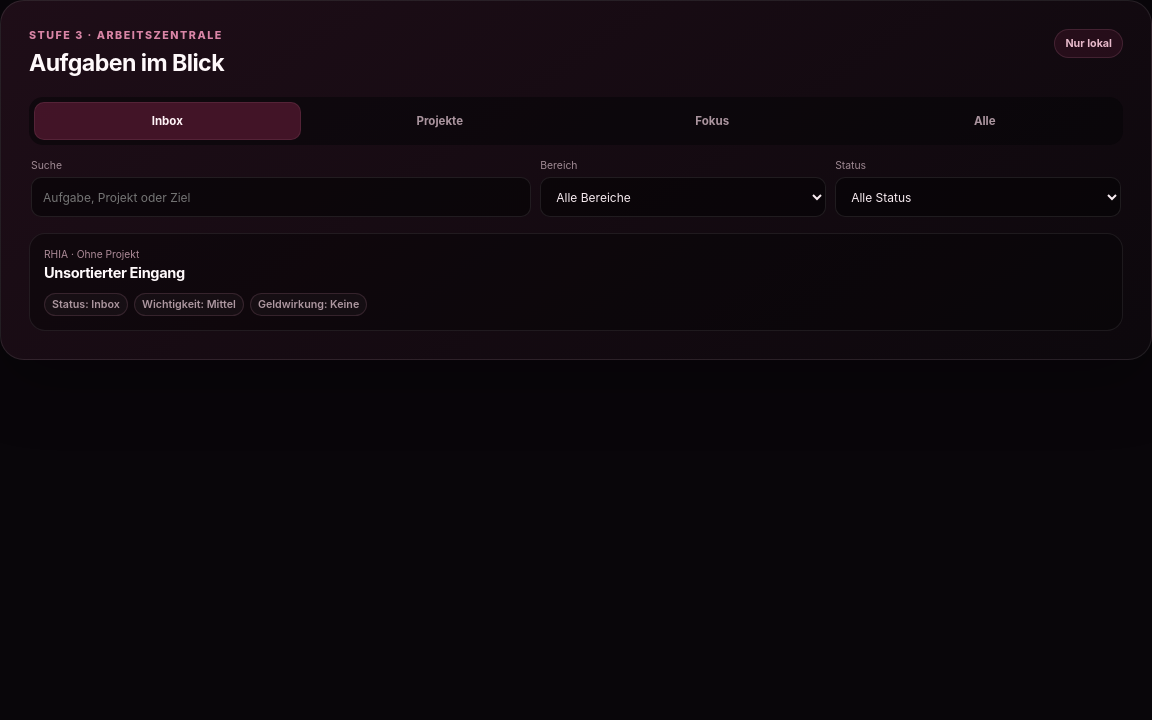
Test: WorkHubPanel › switches between inbox, focus and project views
Check: the heading "Unsortierter Eingang" is shown, box x1=44 y1=264 x2=185 y2=282
Check: the text "Priorität erklären" is not shown
Click the tab "Fokus".
click(712, 121)  # box x1=579 y1=102 x2=846 y2=140
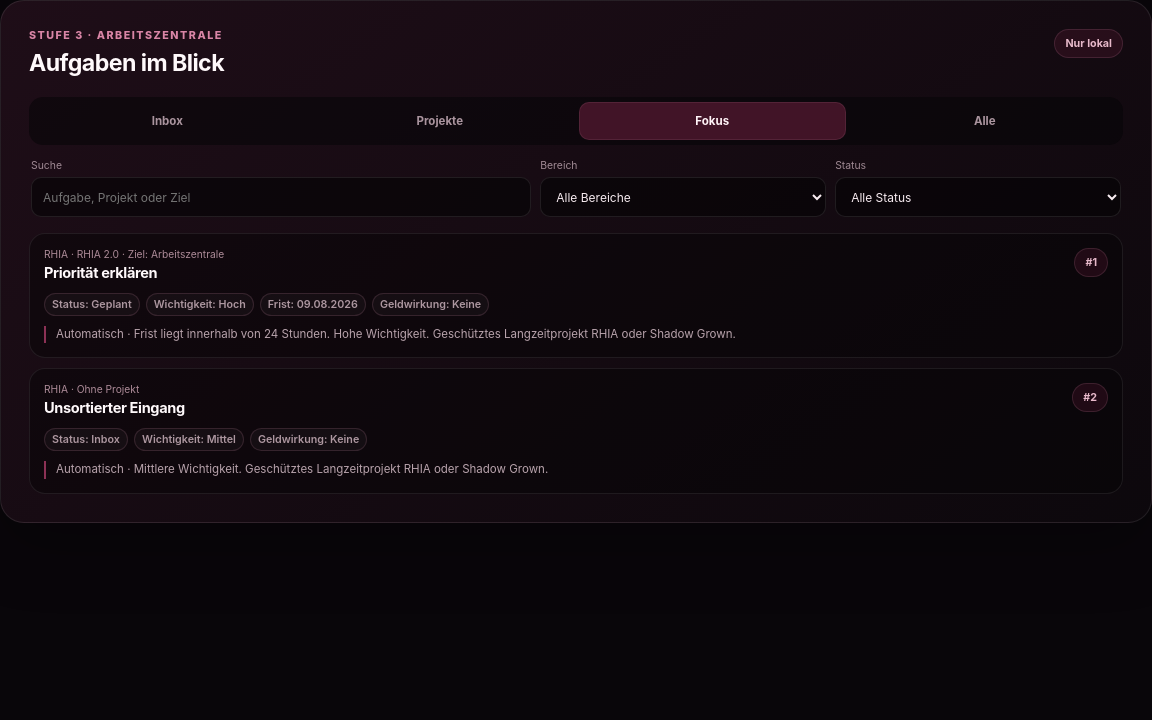
Check: the text "Gerätetest" is not shown
Check: the heading "Priorität erklären" is shown, box x1=44 y1=264 x2=157 y2=282
Check: the text "Automatisch · Frist liegt innerhalb von 24 Stunden" is shown, box x1=44 y1=326 x2=1108 y2=343
Click the tab "Projekte".
click(440, 121)  # box x1=306 y1=102 x2=573 y2=140
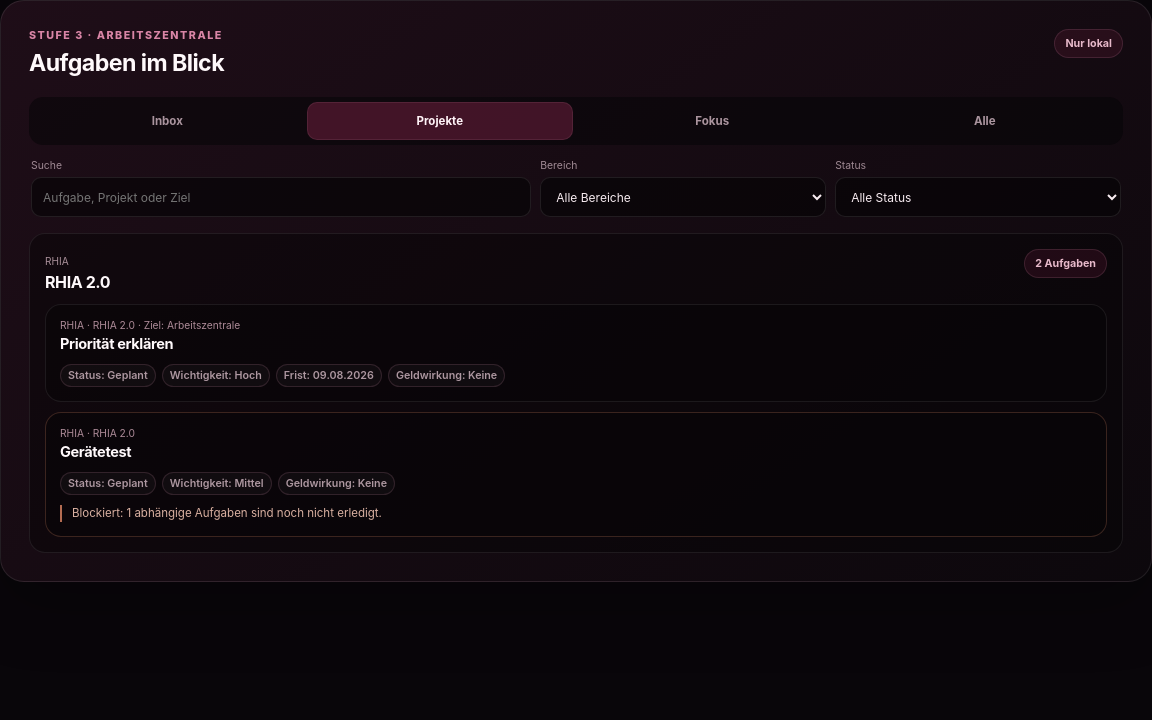
Check: the heading "RHIA 2.0" is shown, box x1=45 y1=272 x2=110 y2=292
Check: the heading "Gerätetest" is shown, box x1=60 y1=443 x2=135 y2=461
Check: the text "Blockiert: 1 abhängige Aufgaben sind noch nicht erledigt." is shown, box x1=60 y1=505 x2=1092 y2=522
